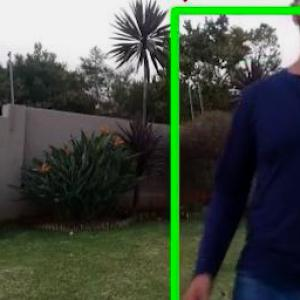follow: (218, 0, 299, 299)
